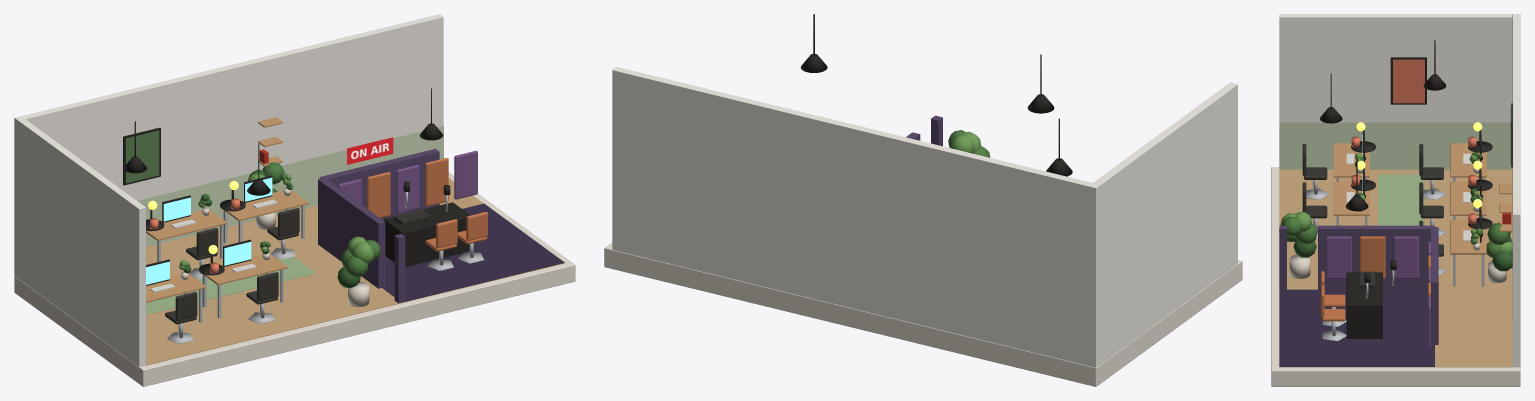
3 renders of one model, left to right at view 1: azimuth 30°, elevation 25°; view 2: azimuth 150°, elevation 25°; view 3: azimuth 270°, elevation 25°, orthographic. The views are drawn at different scales.
Visible parts, largest first — view 1: LM_P3, Plane, Cube.056, Cube.023; view 2: LM_P3; view 3: LM_P3.
Part boxes in pixels (x1,y1,x2,y2): LM_P3: (14, 14, 575, 386); Plane: (347, 137, 393, 164); Cube.056: (224, 242, 251, 265); Cube.023: (163, 197, 190, 221); LM_P3: (604, 14, 1242, 386); LM_P3: (1271, 14, 1520, 386).
Bounding box in the file's own units: 9.3 × 3.8 × 4.8.
31 materials, 1 textured.
